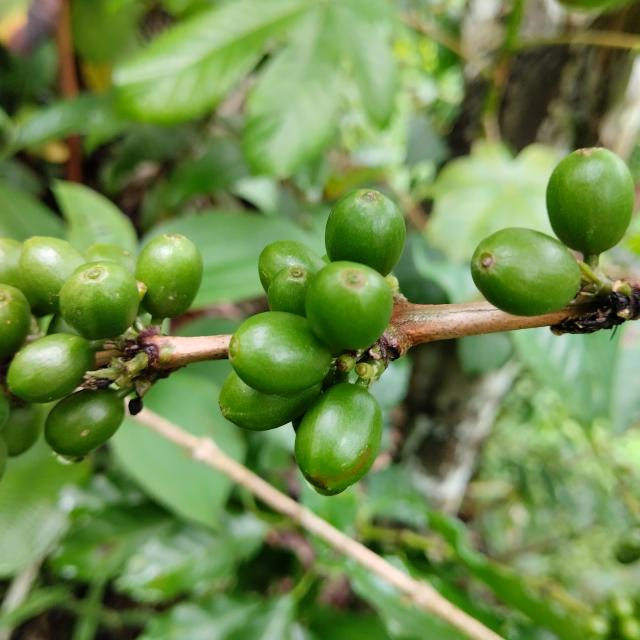green: (547, 147, 635, 269), (295, 383, 383, 496), (471, 227, 582, 316), (228, 311, 332, 395), (305, 261, 394, 350), (325, 188, 406, 276), (58, 261, 140, 340), (6, 334, 95, 403), (218, 372, 322, 431), (134, 234, 202, 318), (44, 389, 124, 458), (18, 236, 85, 313), (258, 240, 325, 293), (268, 266, 314, 316), (0, 284, 30, 359)
